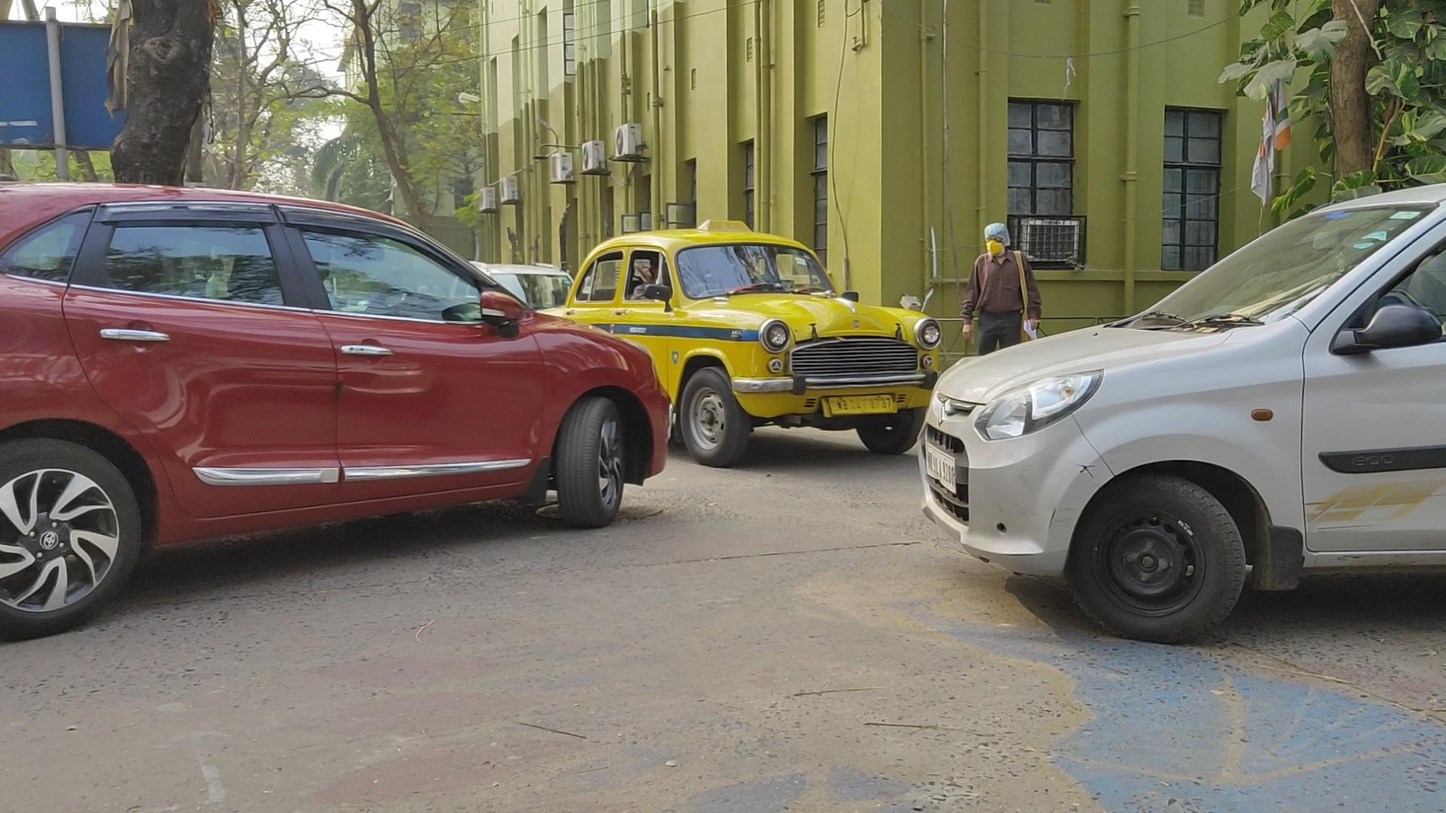car: (2, 179, 674, 642), (917, 181, 1446, 644), (533, 220, 937, 467)
